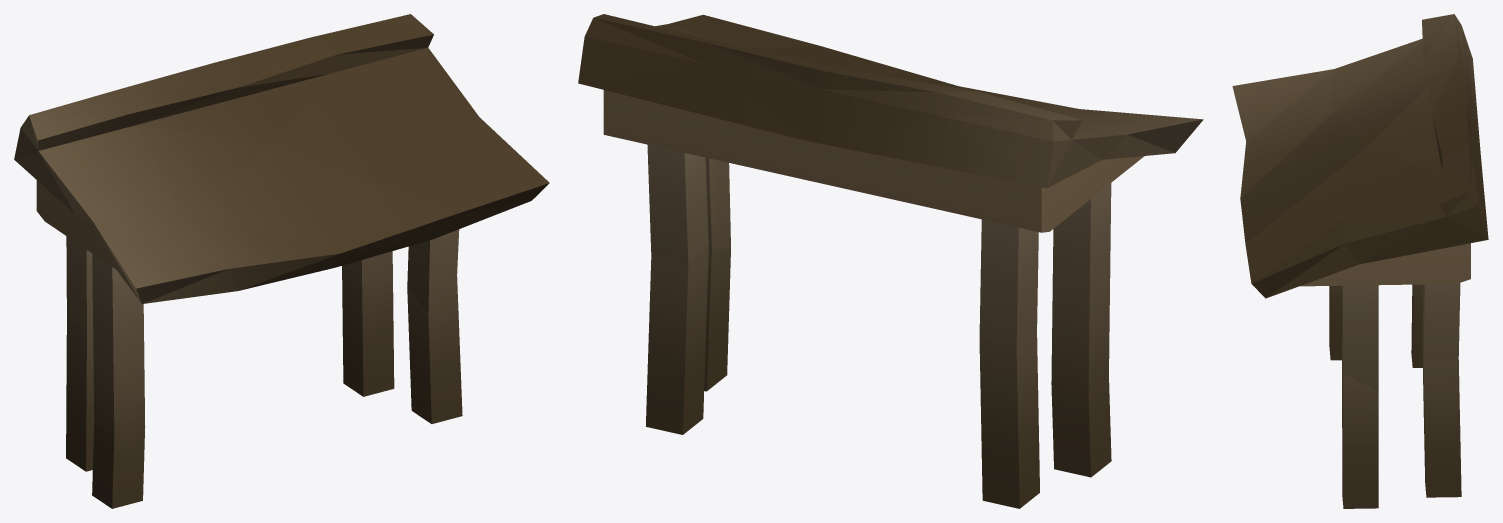
The model's file is LogStorage.fbx.
3 renders of one model, left to right at view 1: azimuth 30°, elevation 25°; view 2: azimuth 150°, elevation 25°; view 3: azimuth 270°, elevation 25°, orthographic. The views are drawn at different scales.
Parts seen in each view (by area): view 1: LogStorage.002; view 2: LogStorage.002; view 3: LogStorage.002.
Boxes of the visible parts, x1,y1,x2,y2 form: LogStorage.002: [14, 14, 549, 508]; LogStorage.002: [578, 14, 1203, 508]; LogStorage.002: [1232, 14, 1488, 508].
Size of the model in its own units: 1.9 by 1.5 by 1.07.
1 material, 1 textured.
